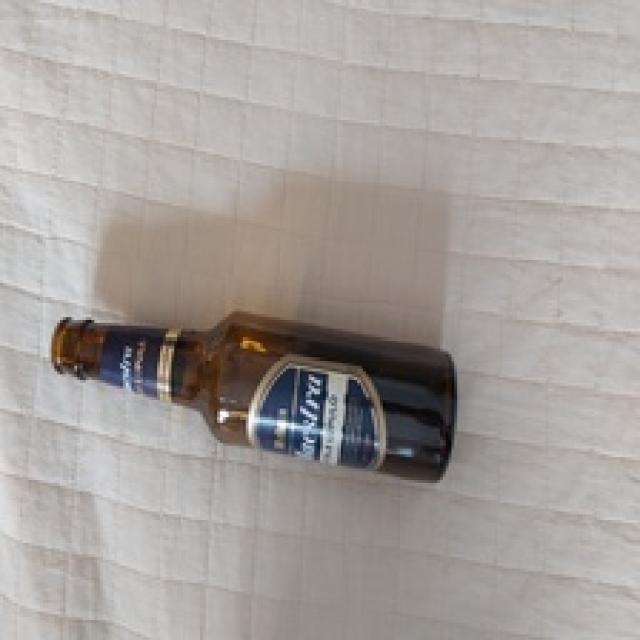Glass: (51, 308, 458, 482)
